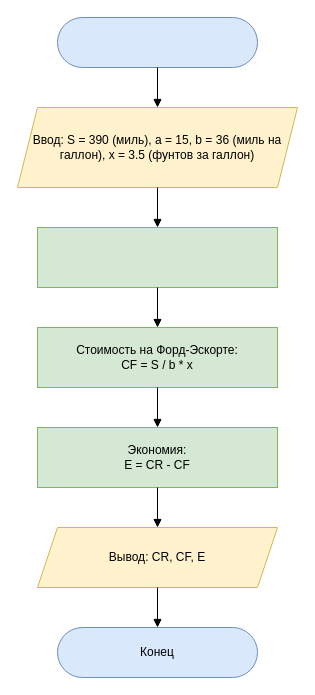
Image size: 315x695. Some labels were removed from this diagram. The centre of each missing label's shape, as x and y in pixels:
Начало: point 157,42
Стоимость на Роллс-Ройсе: CR = S / a * x: point 157,257
